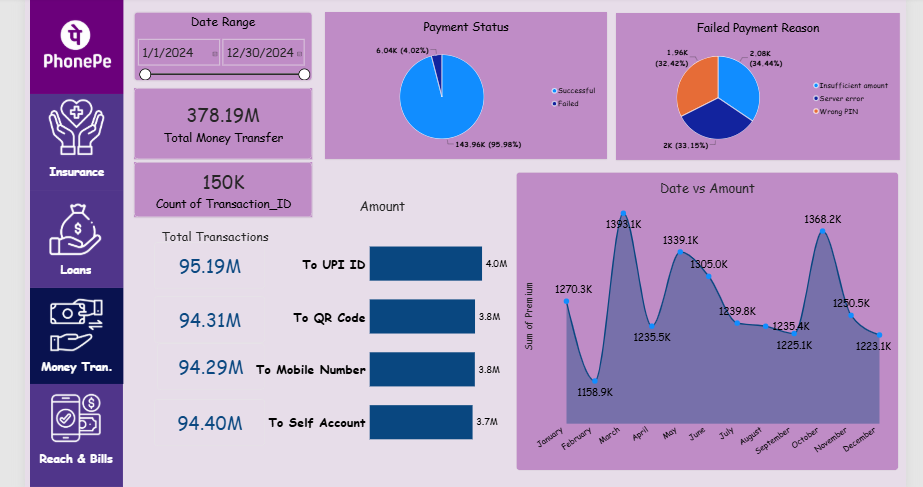

The page's visual inventory and layout, read from the dashboard file:
{"tool":"powerbi","page":{"name":"Money Transfer","canvas":[1920,1080],"ordinal":3},"visuals":[{"type":"shape","box":[9.9,0,203,210.9],"z":0,"group":"g3"},{"type":"shape","box":[9.9,0,203,210.9],"z":0},{"type":"shape","box":[10,840,202,226],"z":0,"group":"g2"},{"type":"shape","box":[9.9,210.9,203,210.9],"z":1000},{"type":"shape","box":[9.9,210.9,203,210.9],"z":1000,"group":"g4"},{"type":"image","box":[35.5,855.3,151.8,122.2],"z":1000,"group":"g2"},{"type":"shape","box":[9.9,421.8,203,210.9],"z":2000,"group":"g5"},{"type":"shape","box":[9.9,421.8,203,210.9],"z":2000},{"type":"shape","box":[17.7,977.5,187.2,51.2],"z":2000,"group":"g2"},{"type":"group","id":"g1","title":"Group 4","box":[9.9,0,203,841.5],"z":3000,"group":"g2"},{"type":"shape","box":[9.9,632.6,203,208.9],"z":3000,"group":"g1"},{"type":"shape","box":[9.9,632.6,203,208.9],"z":3000},{"type":"actionButton","box":[0,0,212,210],"z":4000,"group":"g2"},{"type":"shape","box":[10,840,202,226],"z":4000},{"type":"image","box":[33.5,15.8,157.7,181.3],"z":5000,"group":"g3"},{"type":"image","box":[33.5,15.8,157.7,181.3],"z":5000},{"type":"image","box":[25.6,210.9,171.5,143.9],"z":6000},{"type":"image","box":[25.7,210.9,171.5,143.9],"z":6000,"group":"g4"},{"type":"image","box":[31.5,441.5,157.7,124.2],"z":7000},{"type":"image","box":[31.6,441.5,157.7,124.2],"z":7000,"group":"g5"},{"type":"image","box":[27.6,650.4,167.5,126.1],"z":8000},{"type":"image","box":[27.6,650.4,167.5,126.1],"z":8000,"group":"g1"},{"type":"image","box":[35.5,855.3,151.8,122.2],"z":9000},{"type":"shape","box":[37.4,335,147.8,86.7],"z":10000},{"type":"shape","box":[37.5,335,147.8,86.7],"z":10000,"group":"g4"},{"type":"shape","box":[35.5,565.6,147.8,51.2],"z":11000},{"type":"shape","box":[35.5,565.6,147.8,51.2],"z":11000,"group":"g5"},{"type":"shape","box":[17.7,776.5,187.2,51.2],"z":12000},{"type":"shape","box":[17.8,776.5,187.2,51.2],"z":12000,"group":"g1"},{"type":"shape","box":[17.7,977.5,187.2,51.2],"z":13000},{"type":"group","id":"g2","title":"Group 5","box":[0,0,212.8,1066],"z":14000},{"type":"actionButton","box":[4,210,212,210],"z":15000},{"type":"actionButton","box":[14,220,212,210],"z":16000},{"type":"actionButton","box":[0,420,212,210],"z":17000},{"type":"actionButton","box":[0,856,212,210],"z":18000},{"type":"actionButton","box":[0,2,212,210],"z":19000},{"type":"slicer","title":"Date Range","fields":{"Values":["Recharge_Bills.Date"]},"box":[238,32,388,150],"z":20000},{"type":"cardVisual","fields":{"Data":["Sum(Money_Transfer.Amount)"]},"box":[237.5,197.5,387.5,155],"z":21000},{"type":"group","id":"g3","title":"Group 1","box":[9.9,0,203,210.9],"z":21001,"group":"g4"},{"type":"group","id":"g4","title":"Group 2","box":[9.9,0,203,421.8],"z":21002,"group":"g5"},{"type":"group","id":"g5","title":"Group 3","box":[9.9,0,203,632.6],"z":21003,"group":"g1"},{"type":"pieChart","title":"Payment Status","fields":{"Category":["Money_Transfer.Payment_Status"],"Y":["CountNonNull(Money_Transfer.Payment_Status)"]},"box":[652.5,32.5,614,320],"z":22000},{"type":"pieChart","title":"Failed Payment Reason","fields":{"Category":["Money_Transfer.Reason"],"Y":["CountNonNull(Money_Transfer.Reason)"]},"box":[1286,34,618,320],"z":23000},{"type":"areaChart","title":"Date vs Amount","fields":{"Category":["Money_Transfer.Date.Variation.Date Hierarchy.Month"],"Y":["Sum(Money_Transfer.Amount)"]},"box":[1070,380,833.3,650],"z":24000},{"type":"barChart","title":"Amount","fields":{"Category":["Money_Transfer.Transfer_Type"],"Y":["Sum(Money_Transfer.Amount)"]},"box":[485,420,585,610],"z":25000},{"type":"textbox","box":[255,503.3,318.3,36.7],"z":30000},{"type":"cardVisual","fields":{"Data":["Sum(Money_Transfer.Amount)"]},"box":[280,532.5,242,102],"z":31000},{"type":"cardVisual","fields":{"Data":["Sum(Money_Transfer.Amount)"]},"box":[287.5,752.5,234,102],"z":32000},{"type":"cardVisual","fields":{"Data":["Sum(Money_Transfer.Amount)"]},"box":[280,650,242,102],"z":33000},{"type":"cardVisual","fields":{"Data":["Sum(Money_Transfer.Amount)"]},"box":[280,875,242,102],"z":34000},{"type":"cardVisual","fields":{"Data":["Count(Money_Transfer.Transaction_ID)"]},"box":[236.7,360,388.3,120],"z":34001}]}

Visuals, with their boxes on the page's 1920x1080 design canvas (x1, y1, x2, y2). These are canvas units, not pixel positions in the 923x487 screenshot, which may show the page scaled, cropped or inside an application window:
shape: left=10, top=0, right=213, bottom=211
shape: left=10, top=0, right=213, bottom=211
shape: left=10, top=840, right=212, bottom=1066
shape: left=10, top=211, right=213, bottom=422
shape: left=10, top=211, right=213, bottom=422
image: left=36, top=855, right=187, bottom=978
shape: left=10, top=422, right=213, bottom=633
shape: left=10, top=422, right=213, bottom=633
shape: left=18, top=978, right=205, bottom=1029
"Group 4" group: left=10, top=0, right=213, bottom=842
shape: left=10, top=633, right=213, bottom=842
shape: left=10, top=633, right=213, bottom=842
actionButton: left=0, top=0, right=212, bottom=210
shape: left=10, top=840, right=212, bottom=1066
image: left=34, top=16, right=191, bottom=197
image: left=34, top=16, right=191, bottom=197
image: left=26, top=211, right=197, bottom=355
image: left=26, top=211, right=197, bottom=355
image: left=32, top=442, right=189, bottom=566
image: left=32, top=442, right=189, bottom=566
image: left=28, top=650, right=195, bottom=776
image: left=28, top=650, right=195, bottom=776
image: left=36, top=855, right=187, bottom=978
shape: left=37, top=335, right=185, bottom=422
shape: left=38, top=335, right=185, bottom=422
shape: left=36, top=566, right=183, bottom=617
shape: left=36, top=566, right=183, bottom=617
shape: left=18, top=776, right=205, bottom=828
shape: left=18, top=776, right=205, bottom=828
shape: left=18, top=978, right=205, bottom=1029
"Group 5" group: left=0, top=0, right=213, bottom=1066
actionButton: left=4, top=210, right=216, bottom=420
actionButton: left=14, top=220, right=226, bottom=430
actionButton: left=0, top=420, right=212, bottom=630
actionButton: left=0, top=856, right=212, bottom=1066
actionButton: left=0, top=2, right=212, bottom=212
"Date Range" slicer: left=238, top=32, right=626, bottom=182
cardVisual - Sum(Money_Transfer.Amount): left=238, top=198, right=625, bottom=352
"Group 1" group: left=10, top=0, right=213, bottom=211
"Group 2" group: left=10, top=0, right=213, bottom=422
"Group 3" group: left=10, top=0, right=213, bottom=633
"Payment Status" pieChart: left=652, top=32, right=1266, bottom=352
"Failed Payment Reason" pieChart: left=1286, top=34, right=1904, bottom=354
"Date vs Amount" areaChart: left=1070, top=380, right=1903, bottom=1030
"Amount" barChart: left=485, top=420, right=1070, bottom=1030
textbox: left=255, top=503, right=573, bottom=540
cardVisual - Sum(Money_Transfer.Amount): left=280, top=532, right=522, bottom=634
cardVisual - Sum(Money_Transfer.Amount): left=288, top=752, right=522, bottom=854
cardVisual - Sum(Money_Transfer.Amount): left=280, top=650, right=522, bottom=752
cardVisual - Sum(Money_Transfer.Amount): left=280, top=875, right=522, bottom=977
cardVisual - Count(Money_Transfer.Transaction_ID): left=237, top=360, right=625, bottom=480
